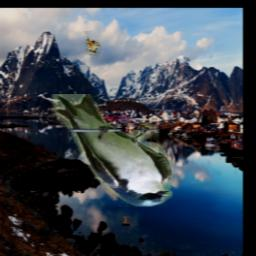Sparrow: (84, 32, 100, 56)
Swallow: (51, 94, 172, 207)
